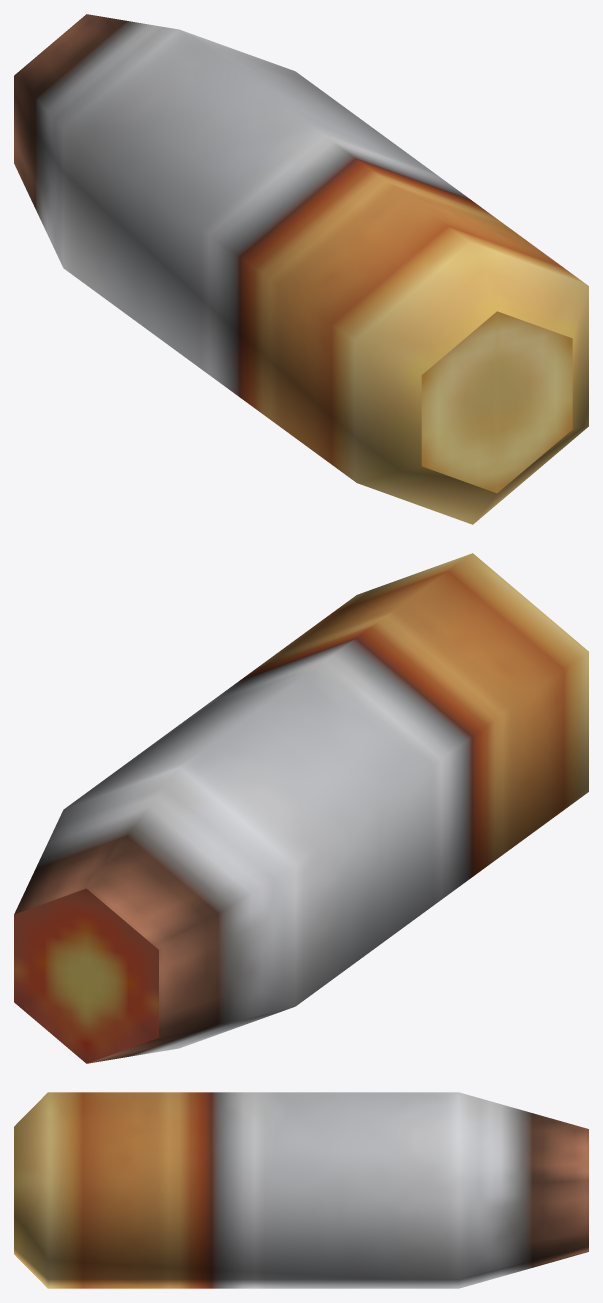
The model's file is Hgn_Missile_Projectile_02.glb.
3 renders of one model, top to bottom at view 1: azimuth 30°, elevation 25°; view 2: azimuth 150°, elevation 25°; view 3: azimuth 270°, elevation 25°, orthographic. The views are drawn at different scales.
Visible parts, largest first — view 1: Group; view 2: Group; view 3: Group.
Boxes of the visible parts, x1,y1,x2,y2 form: Group: (14,14,588,524); Group: (14,553,588,1063); Group: (14,1092,588,1288).
Bounding box in the file's own units: 0.0345 × 0.0399 × 0.1058.
Materials: 1 (1 with a texture image).
